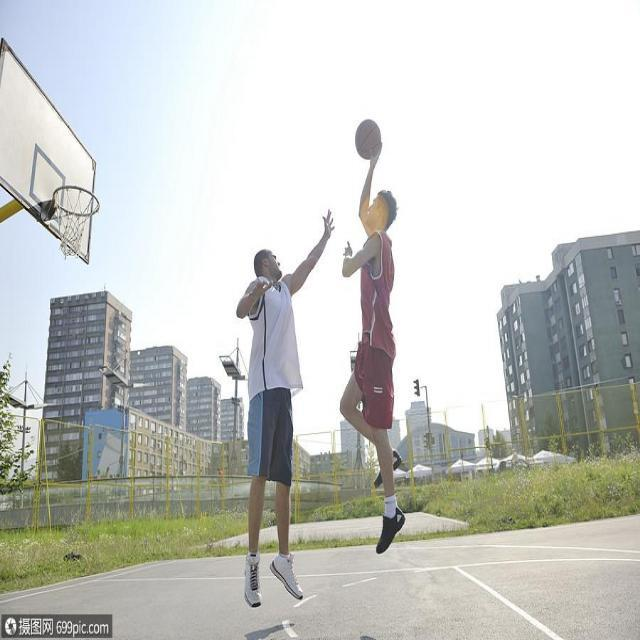rim: (356, 115, 384, 159)
